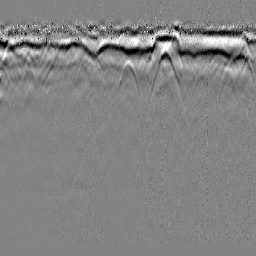cavity: (117, 58, 140, 92)
